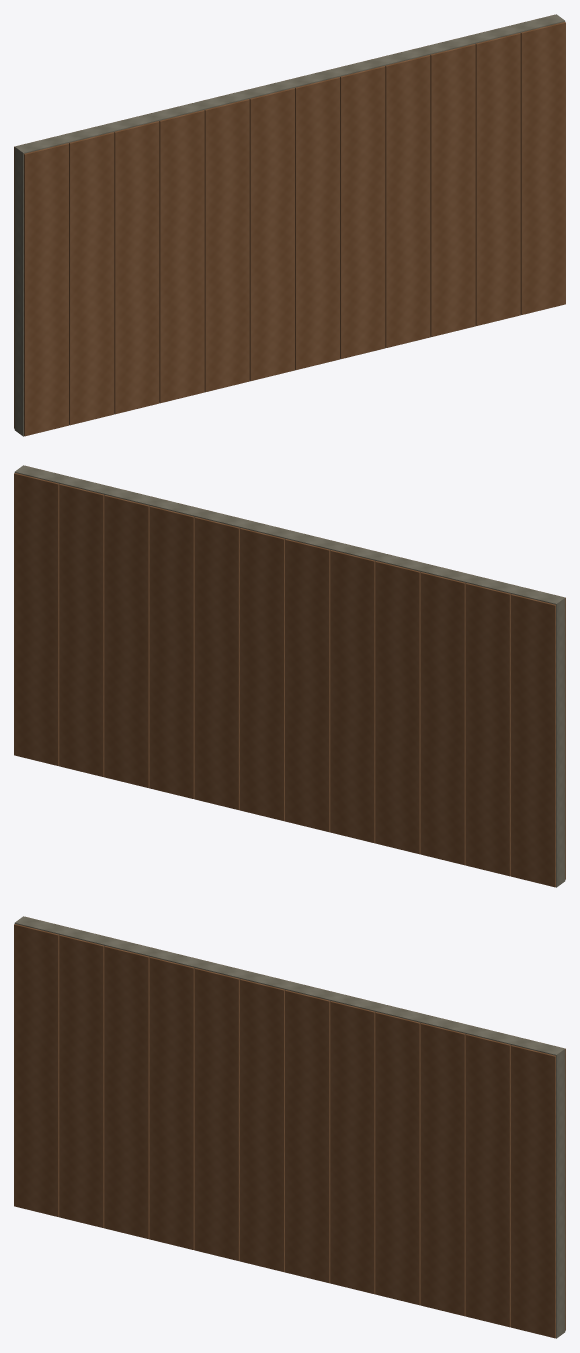
File: MRP_WallHalf_Wood_2m.fbx
3 renders of one model, top to bottom at view 1: azimuth 30°, elevation 25°; view 2: azimuth 150°, elevation 25°; view 3: azimuth 330°, elevation 25°, orthographic.
Visible parts, largest first — view 1: Body; view 2: Body; view 3: Body.
Boxes of the visible parts, x1,y1,x2,y2 form: Body: (14, 14, 565, 436); Body: (14, 465, 565, 887); Body: (14, 916, 565, 1338).
Size of the model in its own units: 2 by 1 by 0.07.
